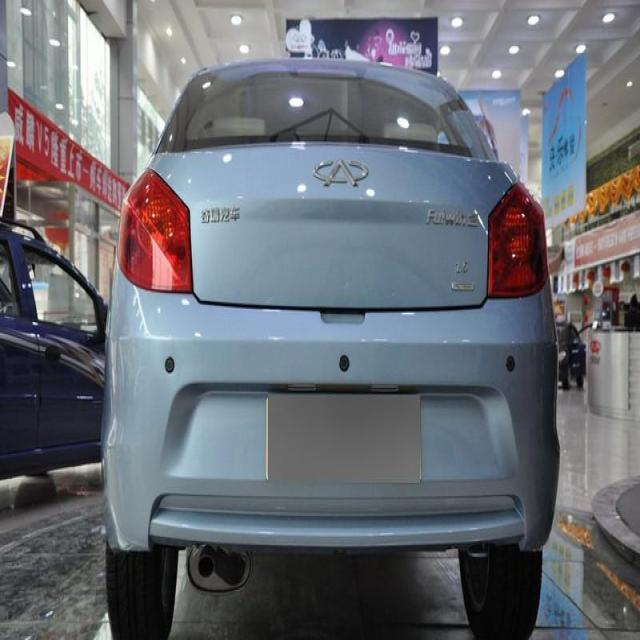back_glass: (154, 59, 500, 160)
back_left_side_light: (116, 166, 194, 297)
back_right_side_light: (486, 177, 550, 301)
rear_bumper: (101, 281, 562, 550)
